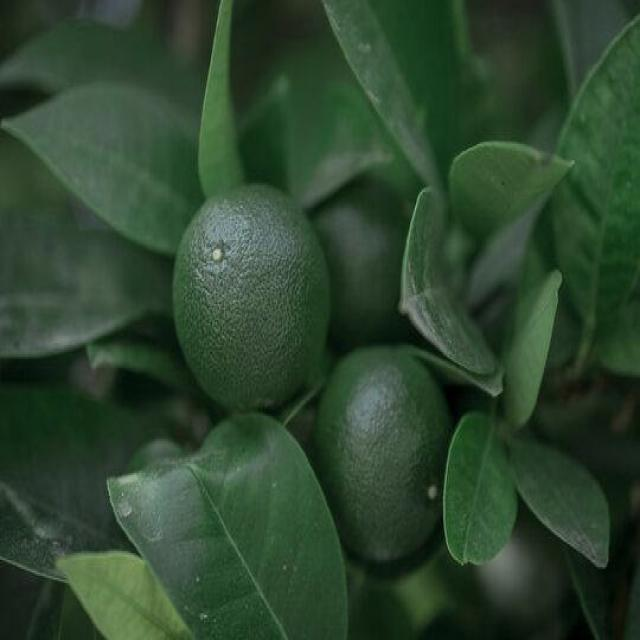Jeruk Belum Matang: (172, 180, 328, 408), (314, 345, 452, 567)
